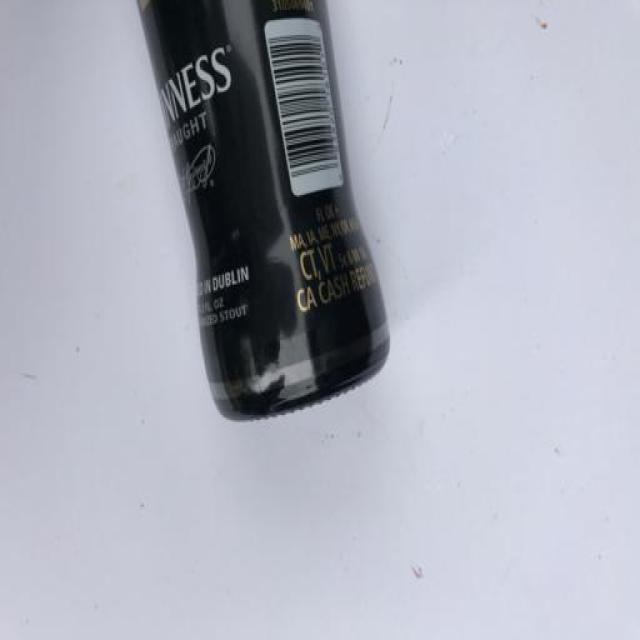glass: (136, 0, 391, 420)
